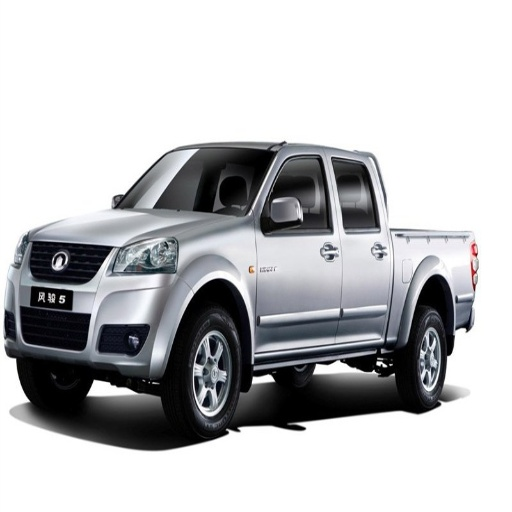back_left_door: (331, 154, 385, 336)
front_bumper: (2, 240, 190, 379)
front_glass: (115, 147, 270, 213)
front_left_door: (259, 152, 340, 347)
trunk: (385, 230, 477, 341)
